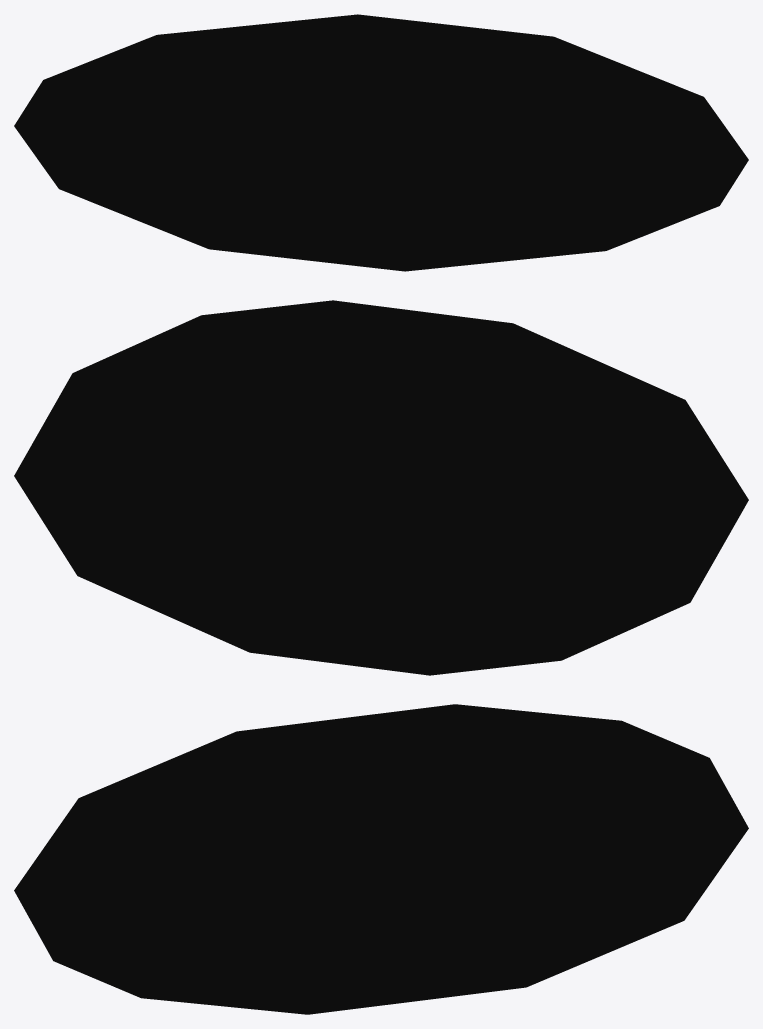
3 views of the same model, one above another, from view 1: azimuth 30°, elevation 25°; view 2: azimuth 150°, elevation 25°; view 3: azimuth 270°, elevation 25° (orthographic). The views are drawn at different scales.
Visible parts, largest first — view 1: Joint_0_Object_0; view 2: Joint_0_Object_0; view 3: Joint_0_Object_0.
Part boxes in pixels (x1=…): Joint_0_Object_0: x1=14, y1=14, x2=748, y2=271; Joint_0_Object_0: x1=14, y1=300, x2=748, y2=675; Joint_0_Object_0: x1=14, y1=704, x2=748, y2=1014.
Bounding box in the file's own units: 325 × 0 × 325.
Materials: 1 (1 with a texture image).
